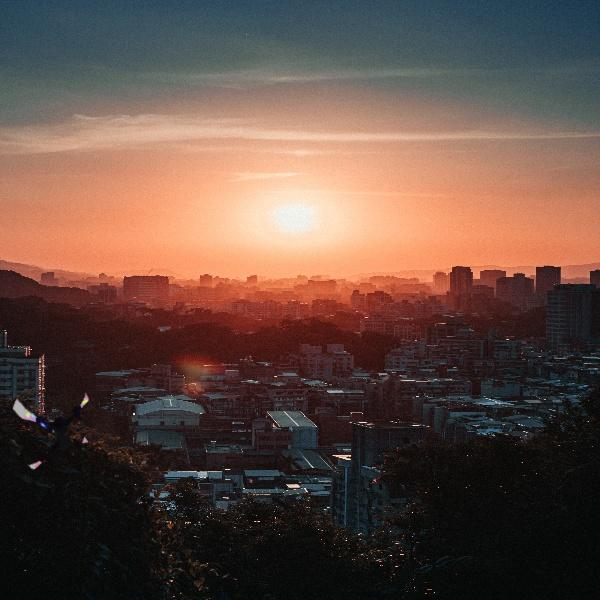drone: (2, 371, 102, 471)
